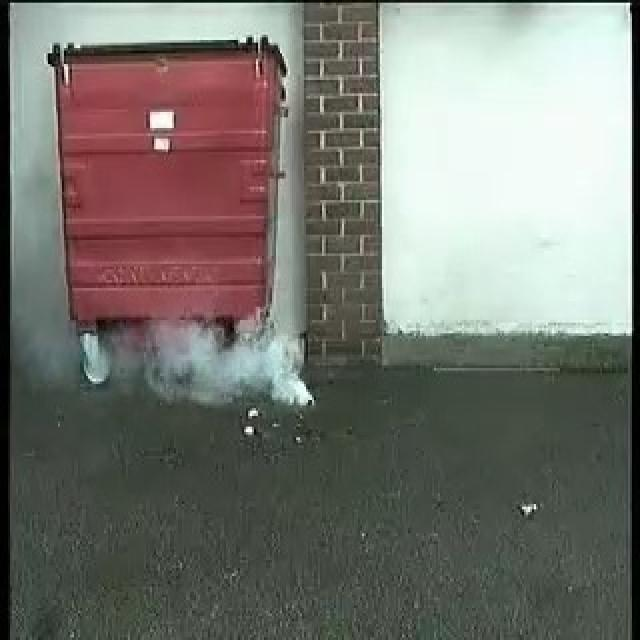Smoke: (139, 326, 313, 410)
